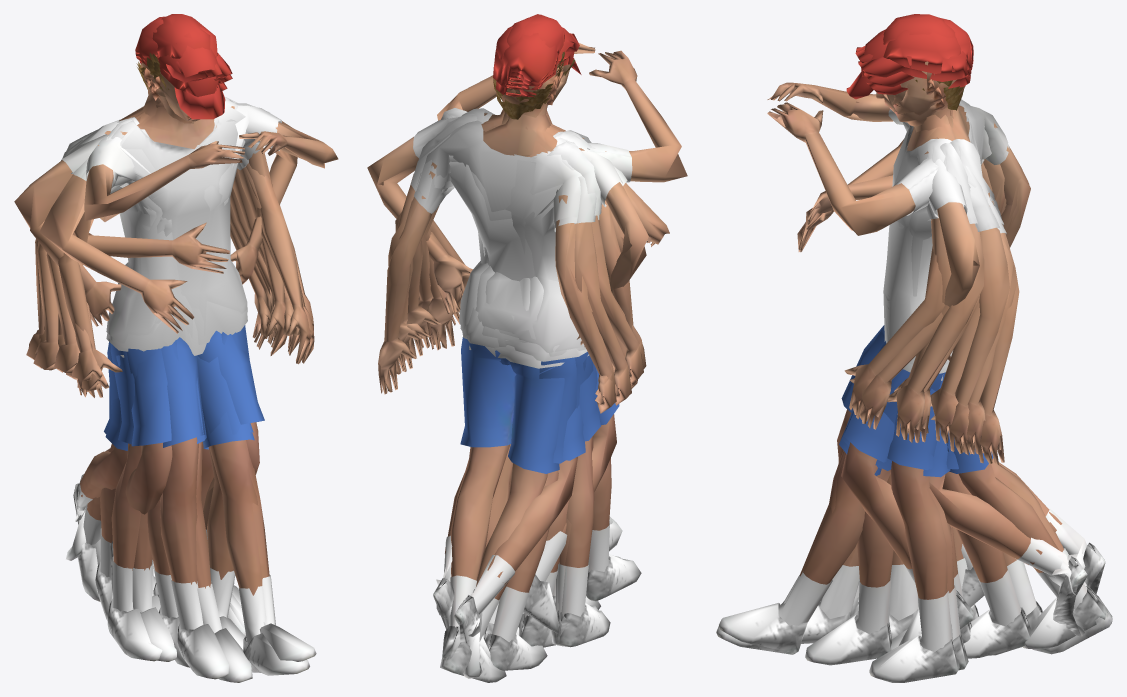
3 renders of one model, left to right at view 1: azimuth 30°, elevation 25°; view 2: azimuth 150°, elevation 25°; view 3: azimuth 270°, elevation 25°, orthographic. The views are drawn at different scales.
Visible parts, largest first — view 1: geh1, hueften, steh, geh6, geh4, geh0, handy, foto, geh5, reden, geh7, geh3 (+1 smaller); view 2: geh6, geh4, geh2, hueften, geh3, geh5, geh7, geh1, foto, geh0, steh, handy (+1 smaller); view 3: geh7, geh0, hueften, geh1, geh2, geh5, geh4, geh3, foto, geh6, steh, handy (+1 smaller).
Boxes of the visible parts, x1=… form: geh1: x1=35, y1=61, x2=310, y2=679; hueften: x1=14, y1=103, x2=297, y2=661; steh: x1=58, y1=14, x2=287, y2=661; geh6: x1=77, y1=74, x2=309, y2=675; geh4: x1=46, y1=16, x2=278, y2=611; geh0: x1=58, y1=18, x2=313, y2=598; handy: x1=73, y1=45, x2=245, y2=652; foto: x1=84, y1=105, x2=338, y2=221; geh5: x1=71, y1=61, x2=316, y2=661; reden: x1=39, y1=14, x2=219, y2=333; geh7: x1=66, y1=74, x2=278, y2=649; geh3: x1=33, y1=53, x2=300, y2=667; geh6: x1=378, y1=74, x2=636, y2=682; geh4: x1=403, y1=33, x2=643, y2=647; geh2: x1=425, y1=63, x2=620, y2=659; hueften: x1=367, y1=112, x2=648, y2=647; geh3: x1=418, y1=63, x2=631, y2=629; geh5: x1=388, y1=67, x2=646, y2=670; geh7: x1=388, y1=50, x2=626, y2=678; geh1: x1=430, y1=59, x2=641, y2=640; foto: x1=437, y1=43, x2=687, y2=182; geh0: x1=395, y1=18, x2=619, y2=633; steh: x1=427, y1=14, x2=637, y2=611; handy: x1=465, y1=27, x2=624, y2=645; geh7: x1=805, y1=51, x2=1105, y2=665; geh0: x1=858, y1=30, x2=1005, y2=650; hueften: x1=869, y1=126, x2=979, y2=682; geh1: x1=837, y1=105, x2=1031, y2=658; geh2: x1=801, y1=70, x2=1107, y2=648; geh5: x1=719, y1=67, x2=1042, y2=655; geh4: x1=841, y1=18, x2=994, y2=645; geh3: x1=887, y1=47, x2=1087, y2=639; foto: x1=767, y1=82, x2=955, y2=235; geh6: x1=716, y1=74, x2=1112, y2=654; steh: x1=855, y1=14, x2=968, y2=670; handy: x1=805, y1=29, x2=953, y2=670.
Bounding box in the file's own units: 0.842 × 1.76 × 0.9824.
Materials: 1 (1 with a texture image).
